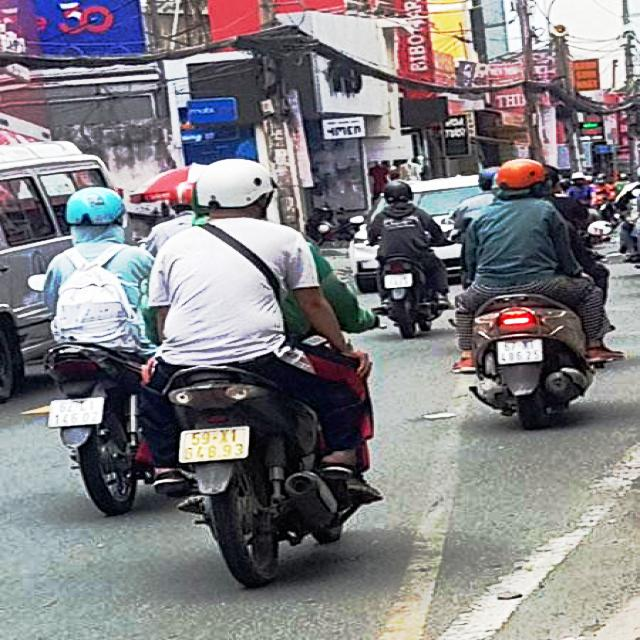license_plate: (179, 429, 248, 464), (48, 398, 104, 427), (497, 339, 545, 366)
